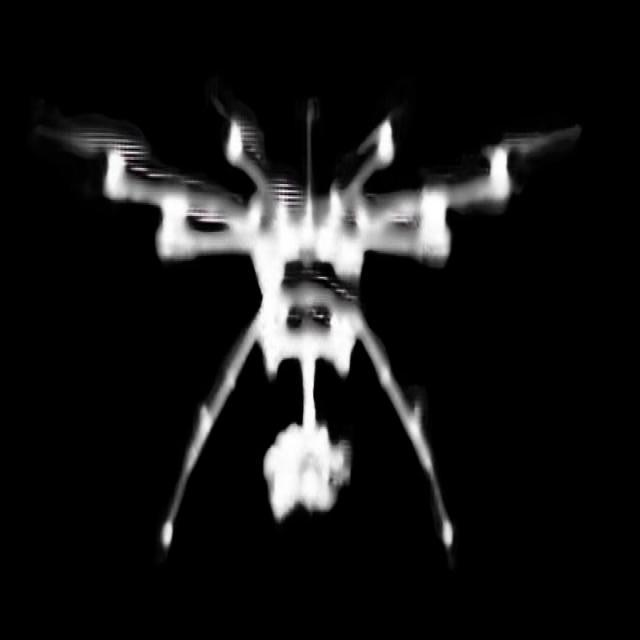drone: (25, 66, 582, 572)
